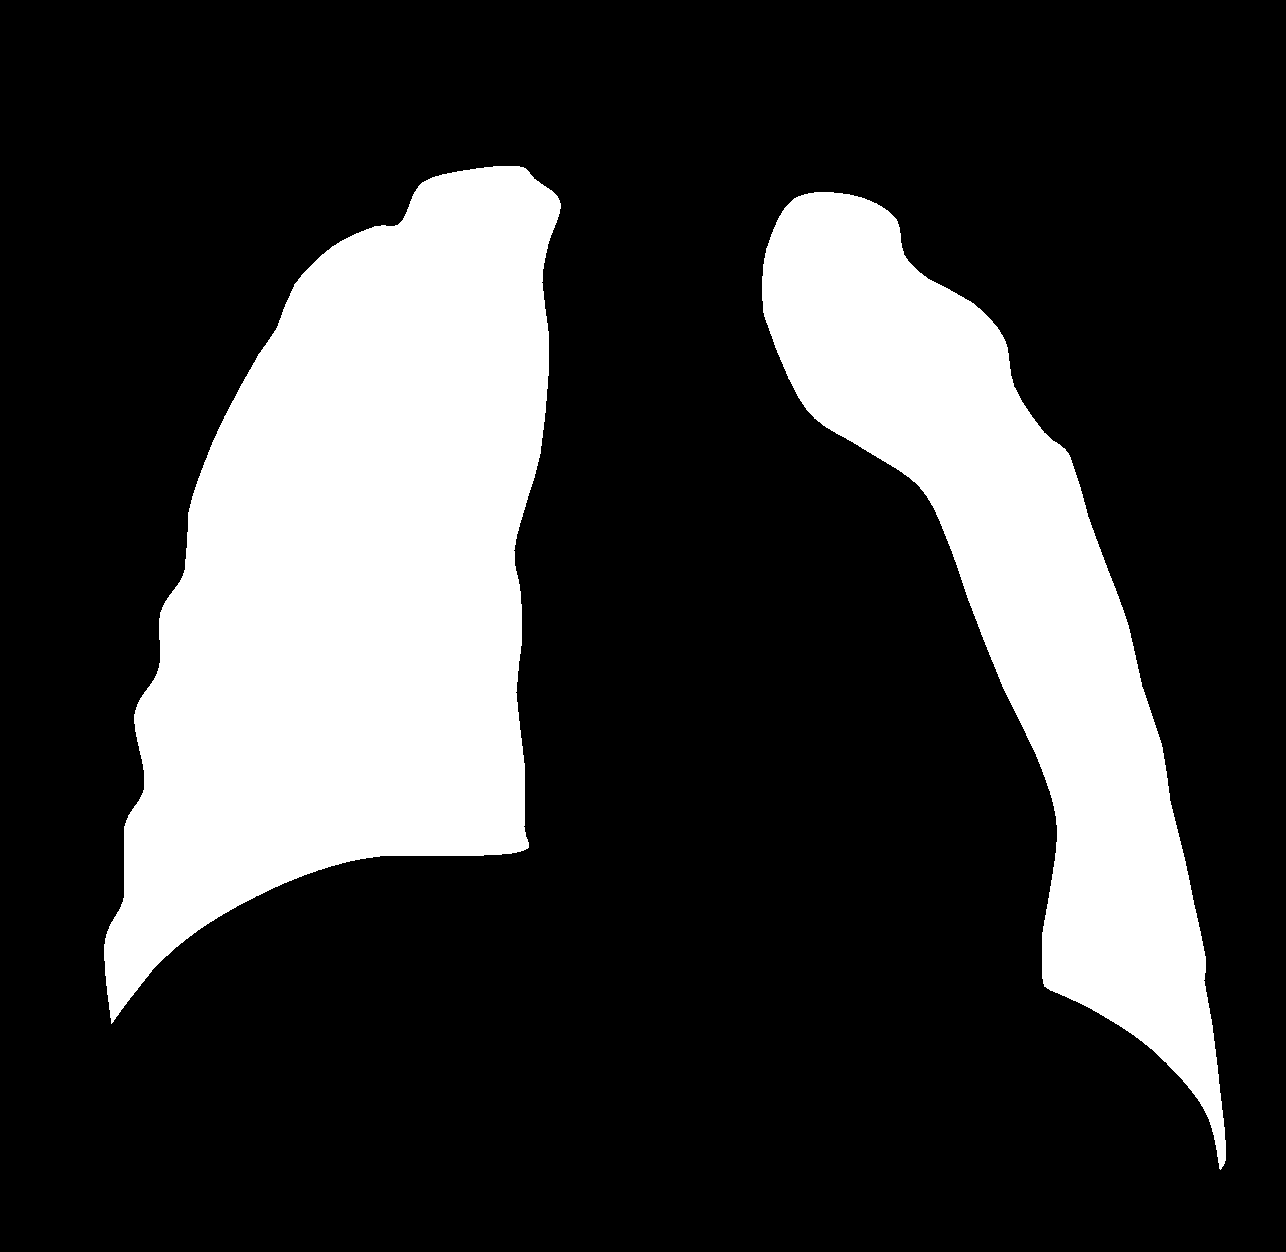heart: (497, 464, 1058, 955)
left_lung: (104, 167, 560, 1023)
right_lung: (762, 192, 1226, 1170)
